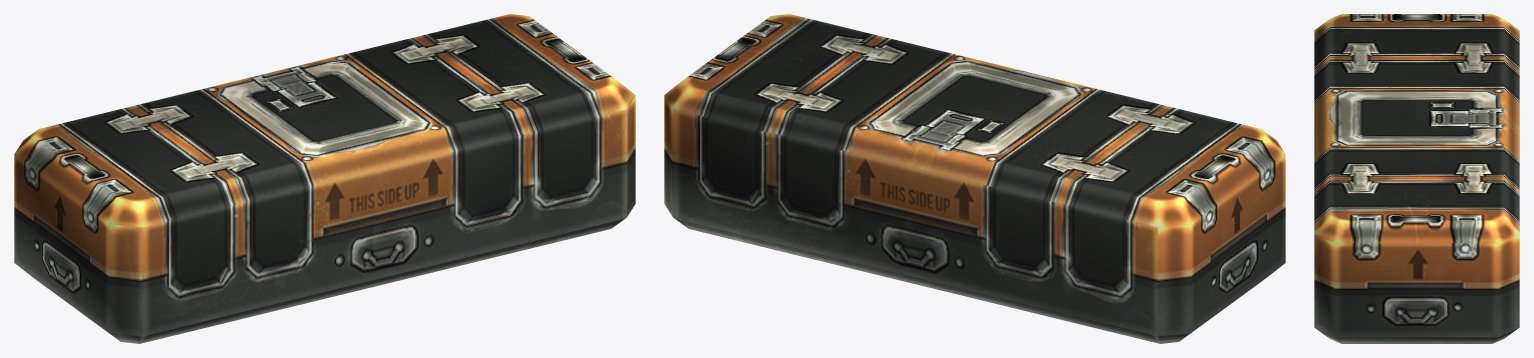
The model's file is crate_toltech_tools.FBX.
The picture shows the model from 3 angles, left to right: view 1: azimuth 30°, elevation 25°; view 2: azimuth 150°, elevation 25°; view 3: azimuth 270°, elevation 25°; orthographic projection. The views are drawn at different scales.
Parts seen in each view (by area): view 1: crate_toltech_tools; view 2: crate_toltech_tools; view 3: crate_toltech_tools.
Boxes of the visible parts, bbox=[...] form: crate_toltech_tools: bbox=[14, 14, 635, 343]; crate_toltech_tools: bbox=[664, 14, 1285, 343]; crate_toltech_tools: bbox=[1314, 14, 1519, 343].
Bounding box in the file's own units: 230 × 58.77 × 90.
